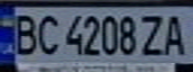0: (100, 11, 121, 56)
2: (78, 11, 103, 57)
4: (60, 11, 84, 56)
8: (118, 11, 142, 57)
A: (160, 10, 193, 57)
B: (9, 10, 42, 56)
C: (33, 11, 63, 56)
Z: (139, 11, 169, 58)
